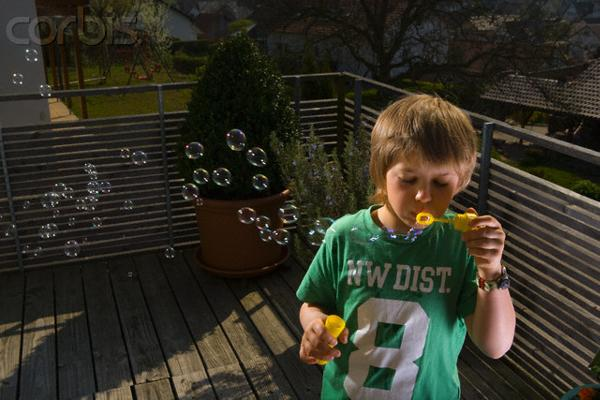person: (297, 96, 516, 400)
